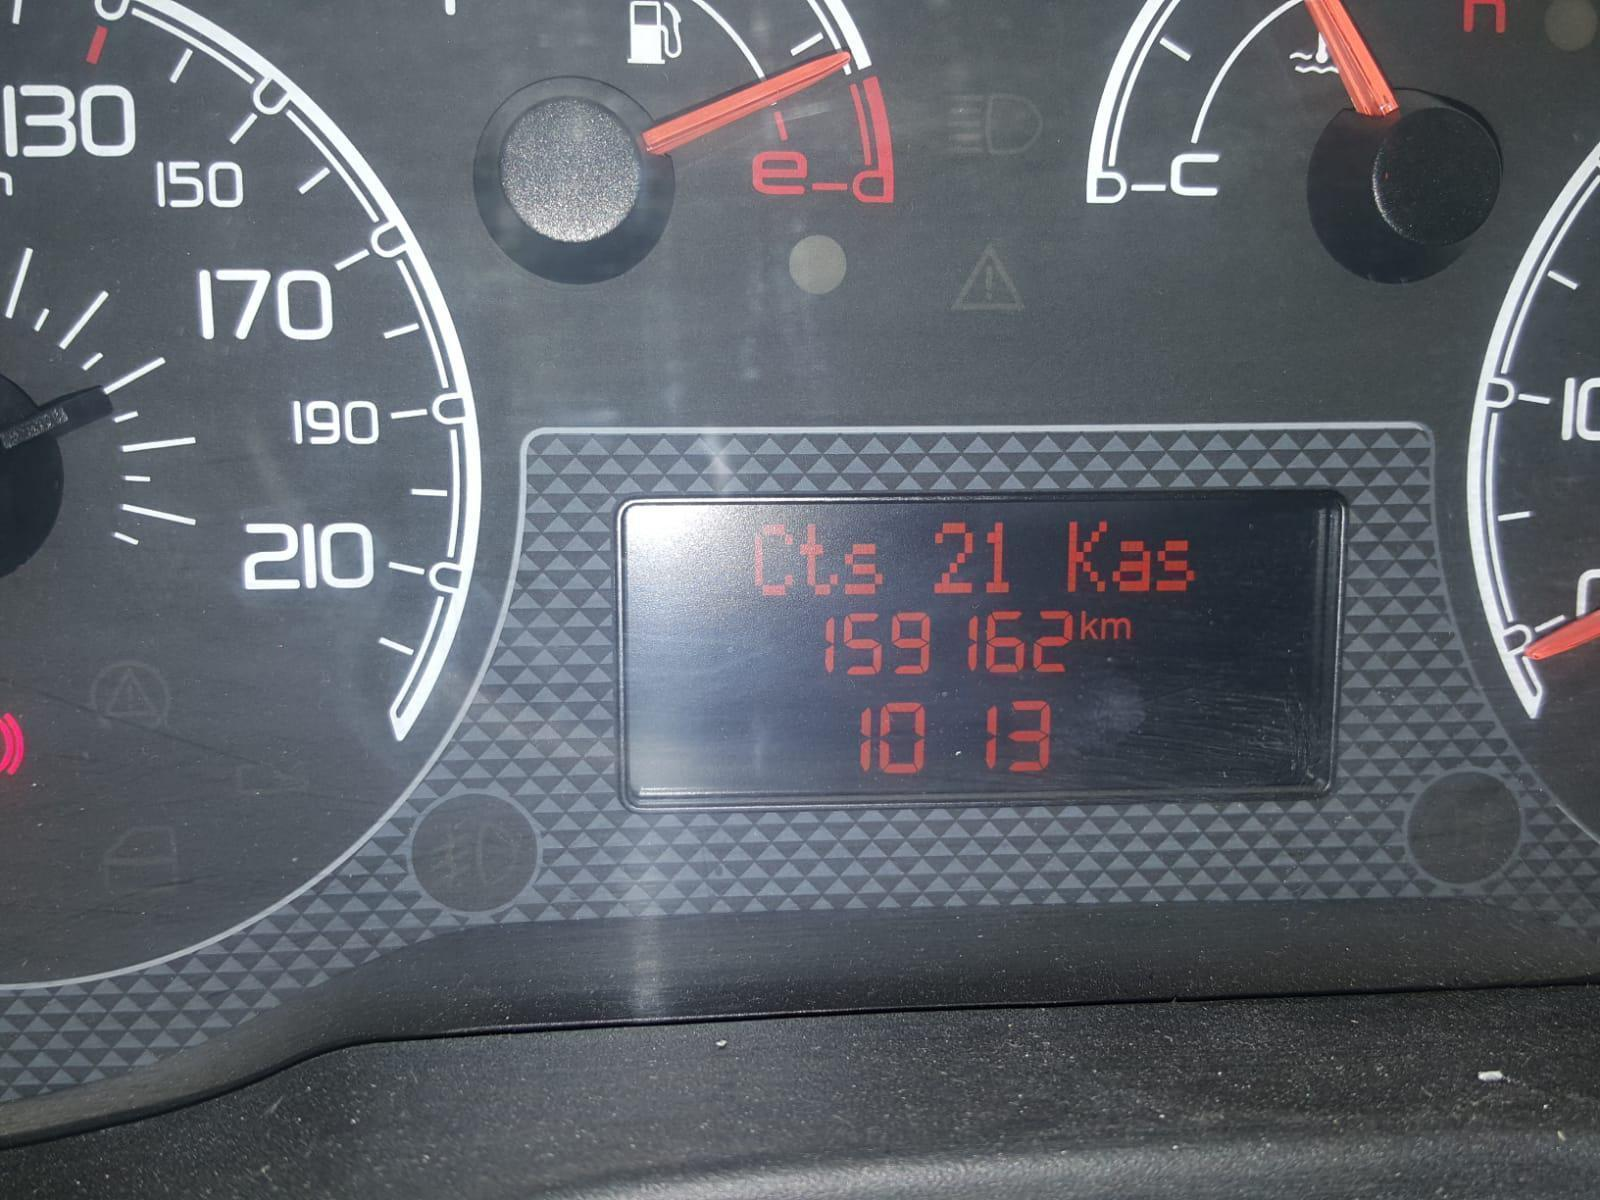0: (877, 701, 927, 775)
1: (983, 521, 1010, 595), (857, 705, 874, 775), (981, 702, 999, 771), (820, 615, 838, 674), (964, 614, 979, 674)
2: (930, 521, 975, 596), (1031, 608, 1075, 674)
3: (1005, 698, 1052, 774)
5: (842, 611, 884, 678)
6: (984, 609, 1026, 674)
9: (889, 611, 931, 677)
X: (1065, 518, 1110, 595), (752, 522, 795, 597), (797, 522, 839, 596), (840, 541, 884, 596), (1153, 538, 1196, 592), (1110, 538, 1151, 592), (1099, 616, 1133, 642), (1078, 609, 1099, 640)
odometer: (611, 480, 1348, 817)
